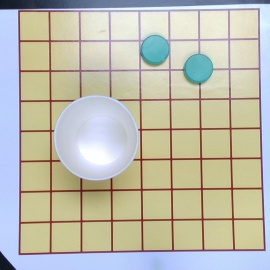cup: (53, 95, 141, 182)
green: (184, 54, 213, 83), (141, 36, 171, 63)
